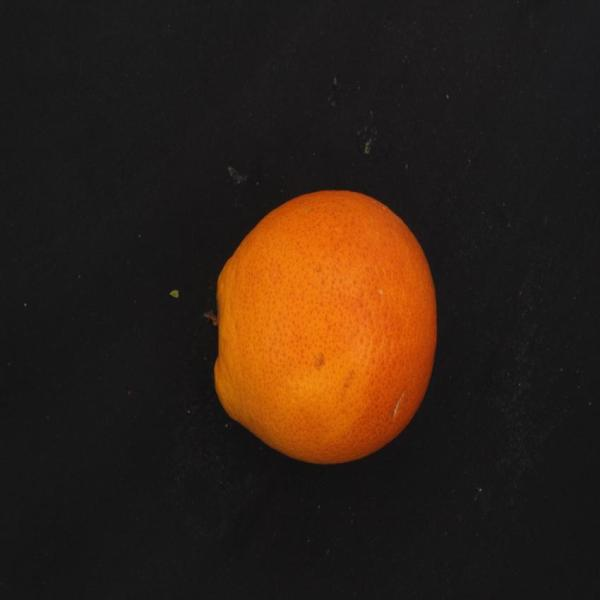Sana: (192, 183, 452, 480)
